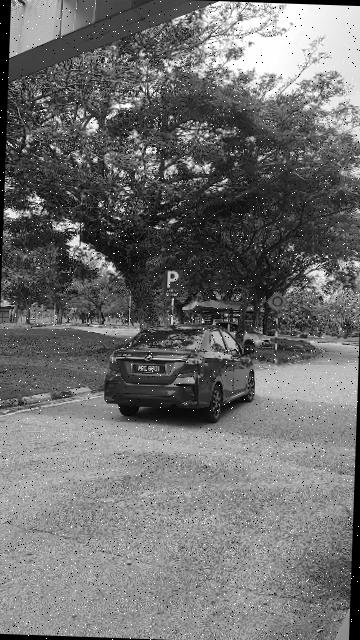License_Plate: (132, 364, 168, 376)
car: (104, 323, 262, 425)
